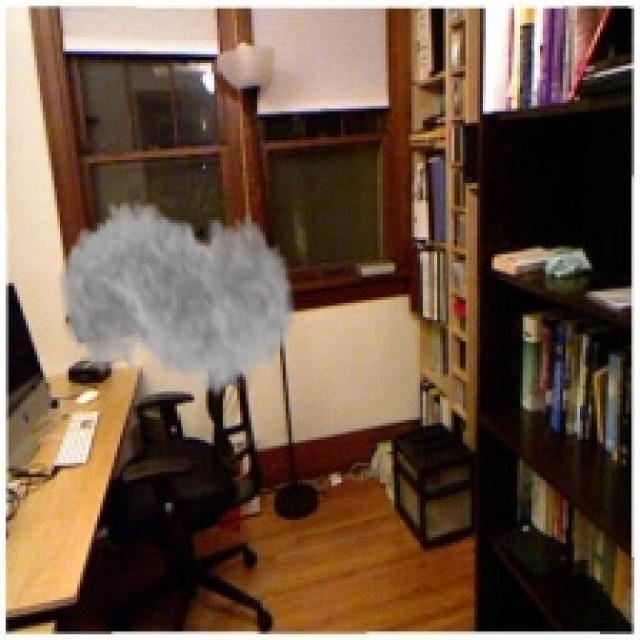Smoke: (57, 174, 297, 414)
